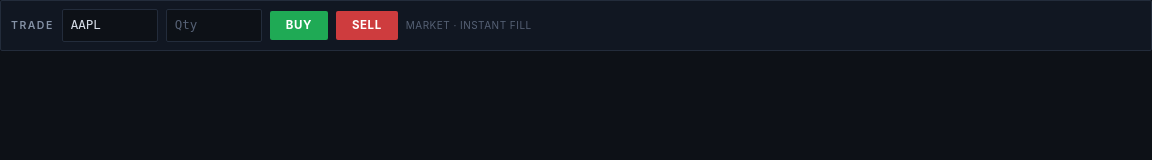
Test case: TradeBar › shows a 400 error inline on sell
In the number field with test id "trade-quantity": (214, 25) [166, 9, 262, 42], type "5"
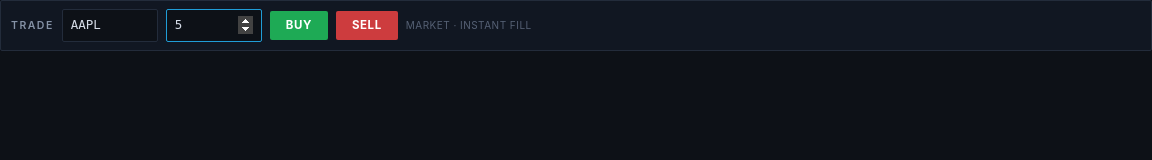
Click the button with test id "trade-sell": (367, 25) [336, 11, 398, 40]
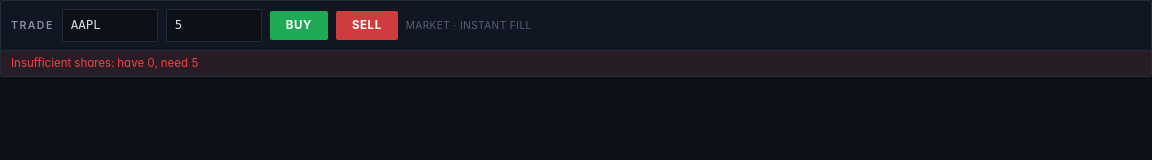
Expected: the message with test id "trade-error" shows "Insufficient shares", [11, 56, 199, 70]
